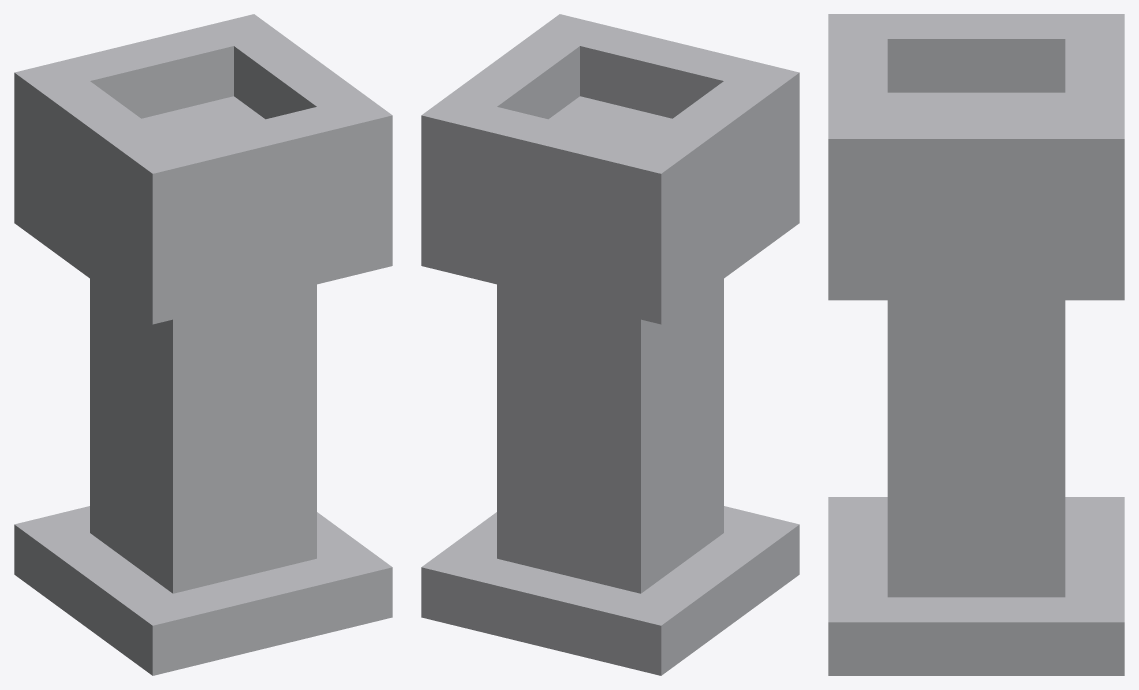
The model's file is ground_torch_d_a_unlit.obj.
3 views of the same model, side by side, from view 1: azimuth 30°, elevation 25°; view 2: azimuth 150°, elevation 25°; view 3: azimuth 270°, elevation 25° (orthographic). The views are drawn at different scales.
Size of the model in its own units: 0.5 by 1 by 0.5.
1 material, 1 textured.
